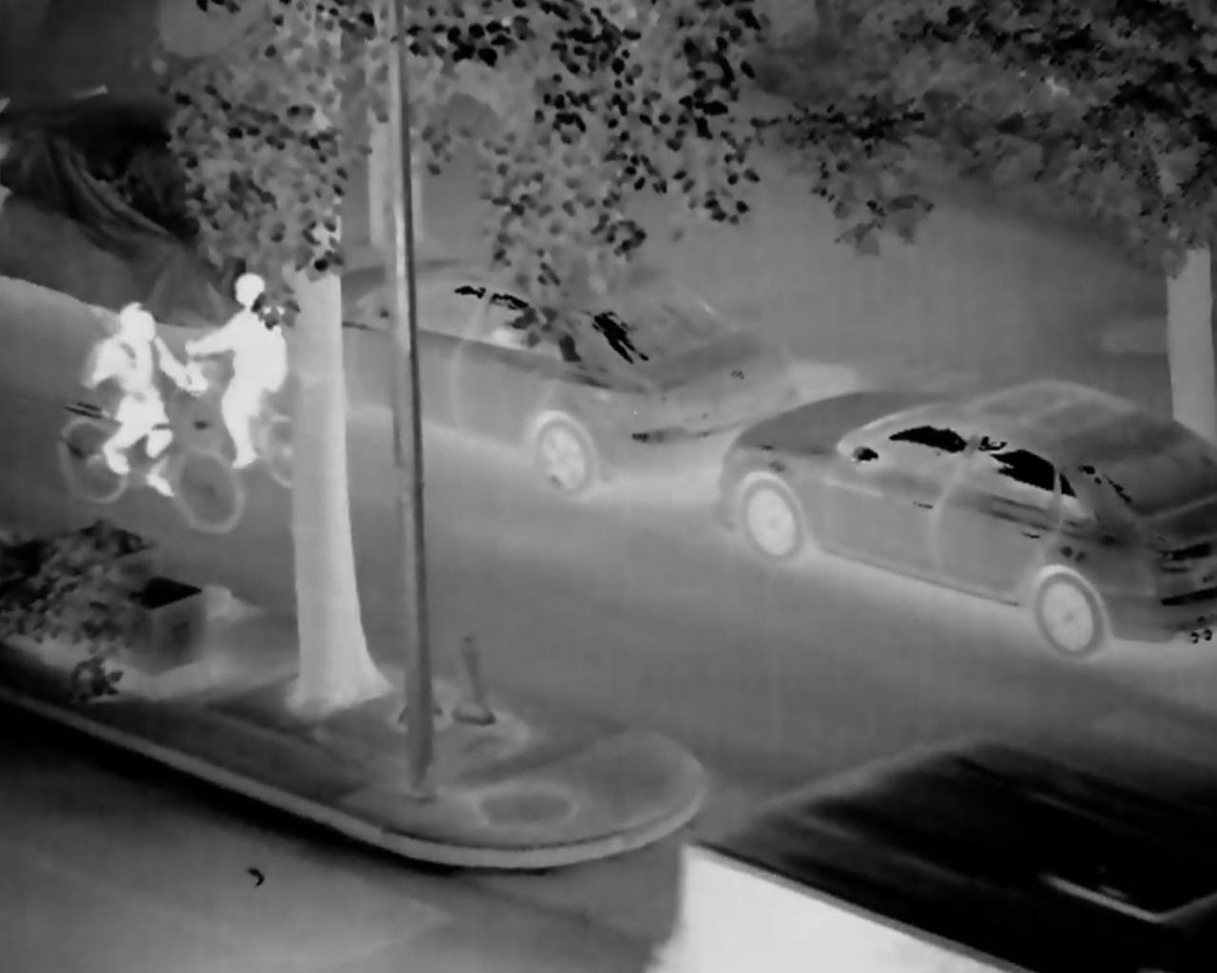person: (67, 300, 193, 491), (189, 268, 296, 472)
